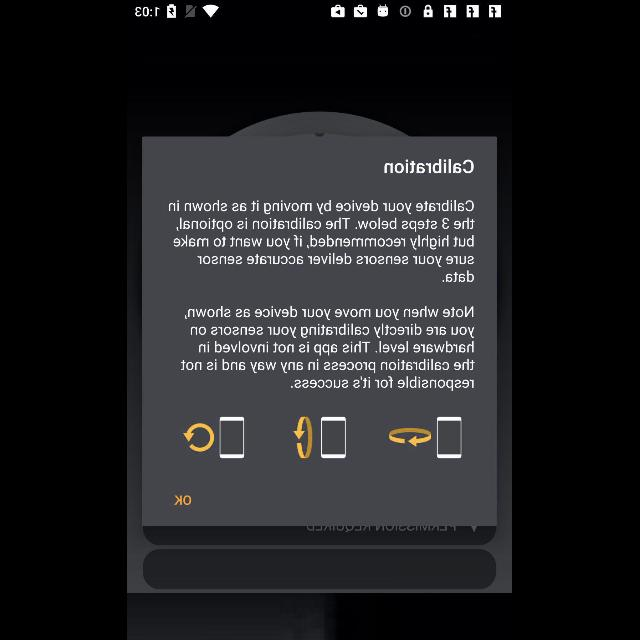image: (390, 416, 462, 458), (183, 416, 245, 458), (294, 416, 346, 459)
panel: (142, 137, 498, 527)
text: (169, 200, 475, 282), (181, 306, 475, 388), (386, 158, 474, 174), (174, 495, 192, 505)
uppertaskbar: (128, 1, 512, 23)
